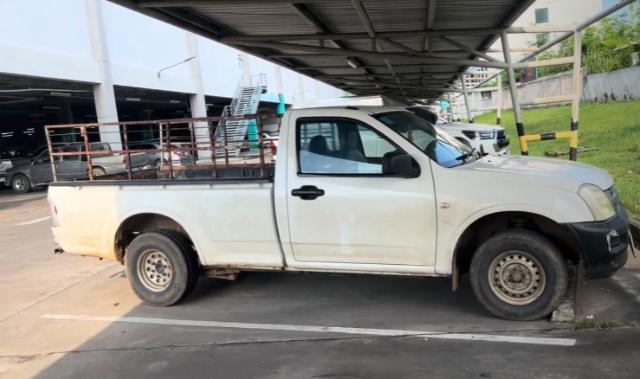pickup-truck: (47, 103, 640, 324)
